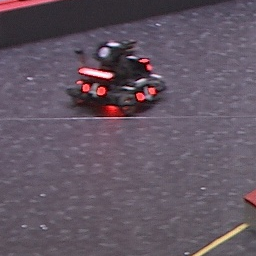Red: (81, 79, 106, 98), (135, 81, 156, 103)
Robot: (60, 38, 168, 117)
